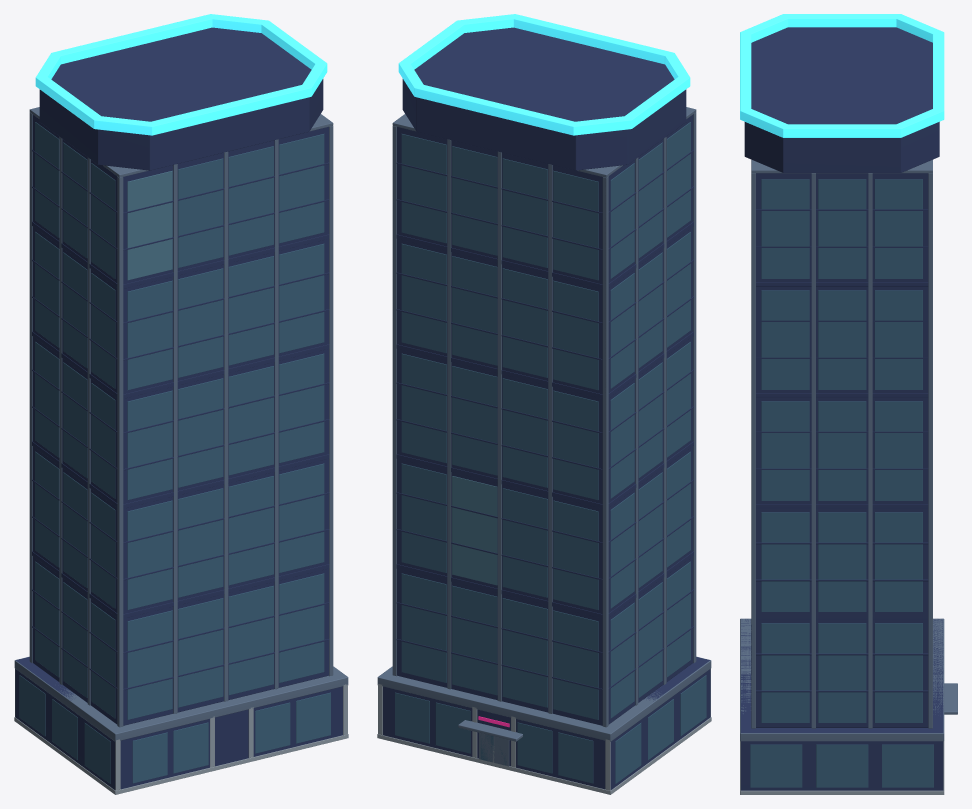
Rendered from d04_towers_02.glb.
3 views of the same model, side by side, from view 1: azimuth 30°, elevation 25°; view 2: azimuth 150°, elevation 25°; view 3: azimuth 270°, elevation 25° (orthographic).
Parts seen in each view (by area): view 1: D04Towers02_Facade, D04Towers02_Crown, D04Towers02_Lobby; view 2: D04Towers02_Facade, D04Towers02_Crown, D04Towers02_Lobby; view 3: D04Towers02_Facade, D04Towers02_Crown, D04Towers02_Lobby.
Part boxes in pixels (x1,y1,x2,y2): D04Towers02_Facade: [29, 112, 333, 727]; D04Towers02_Crown: [29, 14, 333, 177]; D04Towers02_Lobby: [14, 656, 348, 794]; D04Towers02_Facade: [392, 112, 696, 727]; D04Towers02_Crown: [392, 14, 696, 177]; D04Towers02_Lobby: [377, 656, 711, 794]; D04Towers02_Facade: [751, 173, 932, 728]; D04Towers02_Crown: [740, 14, 944, 173]; D04Towers02_Lobby: [740, 618, 957, 794].
Bounding box in the file's own units: 24 × 64.8 × 19.2.
